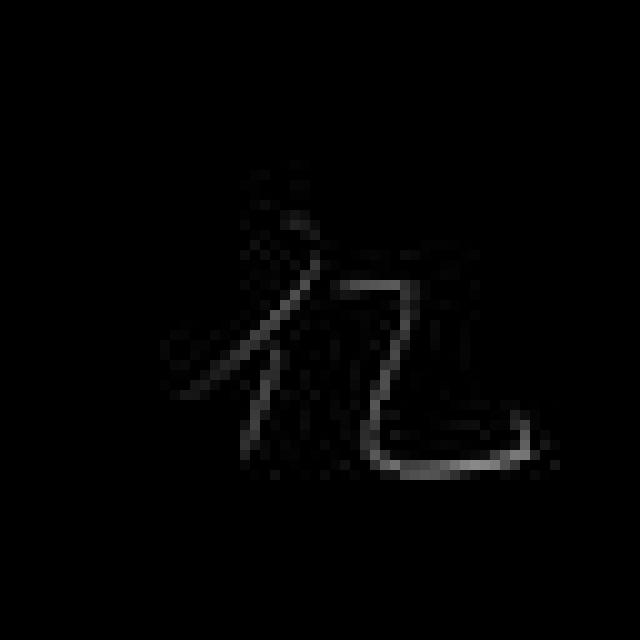100000 -a hundred thousand-: (188, 247, 548, 491)
